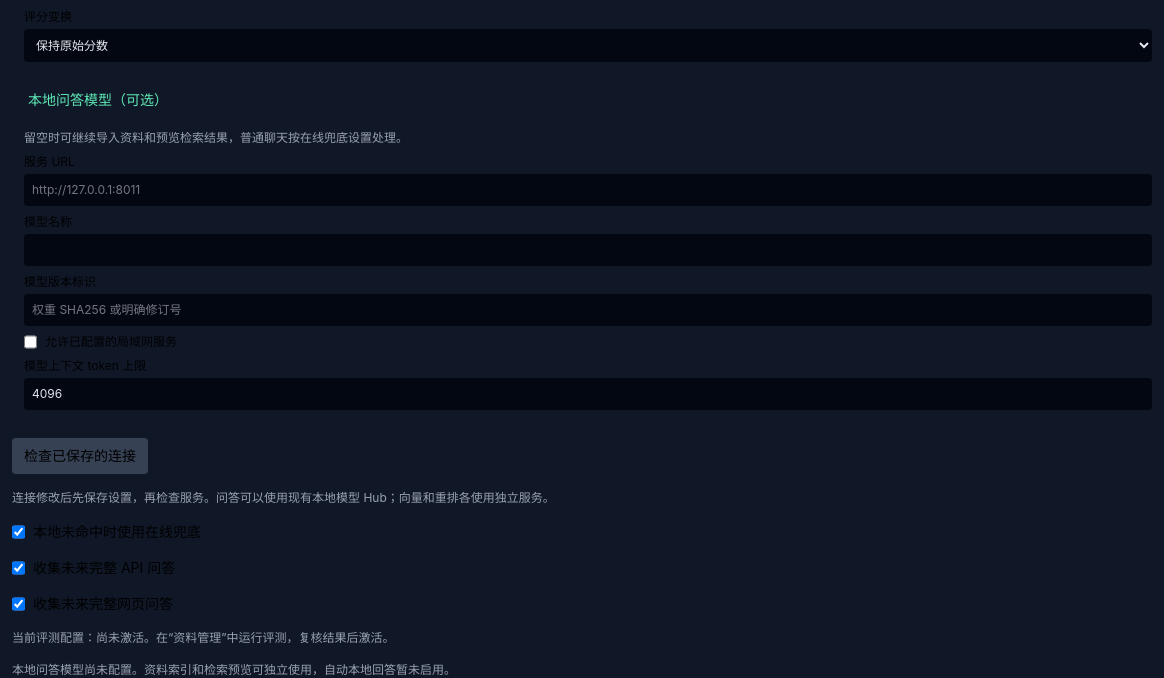
settings default off and report each role probe error
(page scrolled)
Click the button "检查已保存的连接": click(80, 456) [12,438,148,474]
(page scrolled)
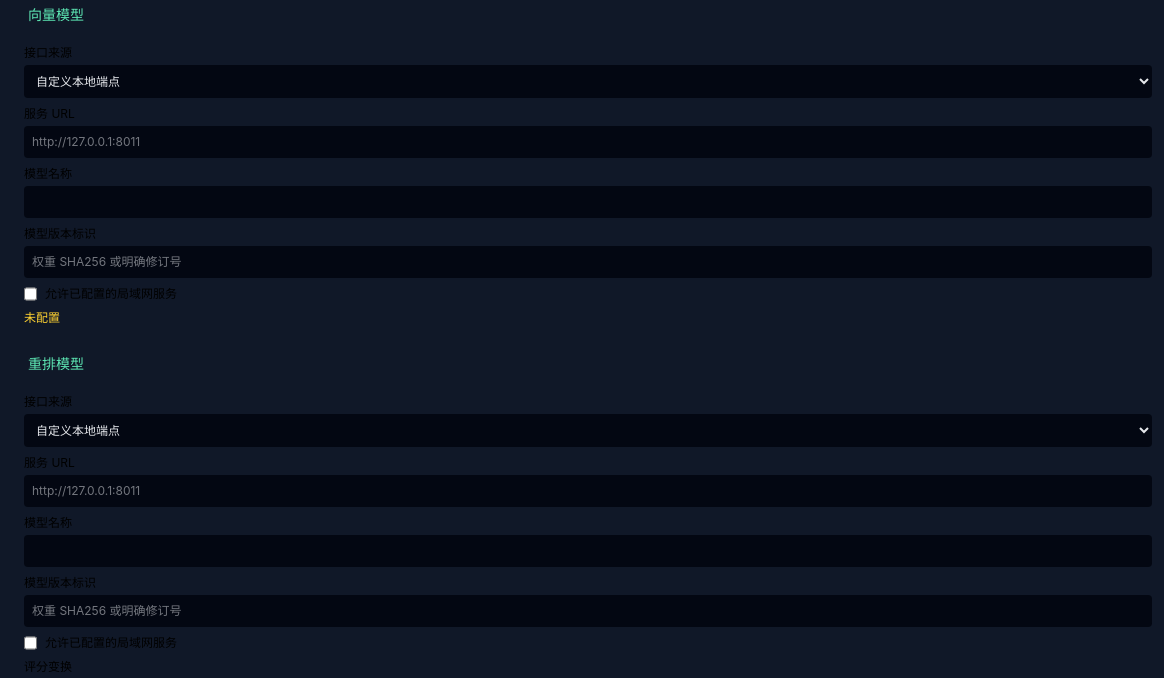
Expected: the text "未配置" is shown, [24,310,60,325]
